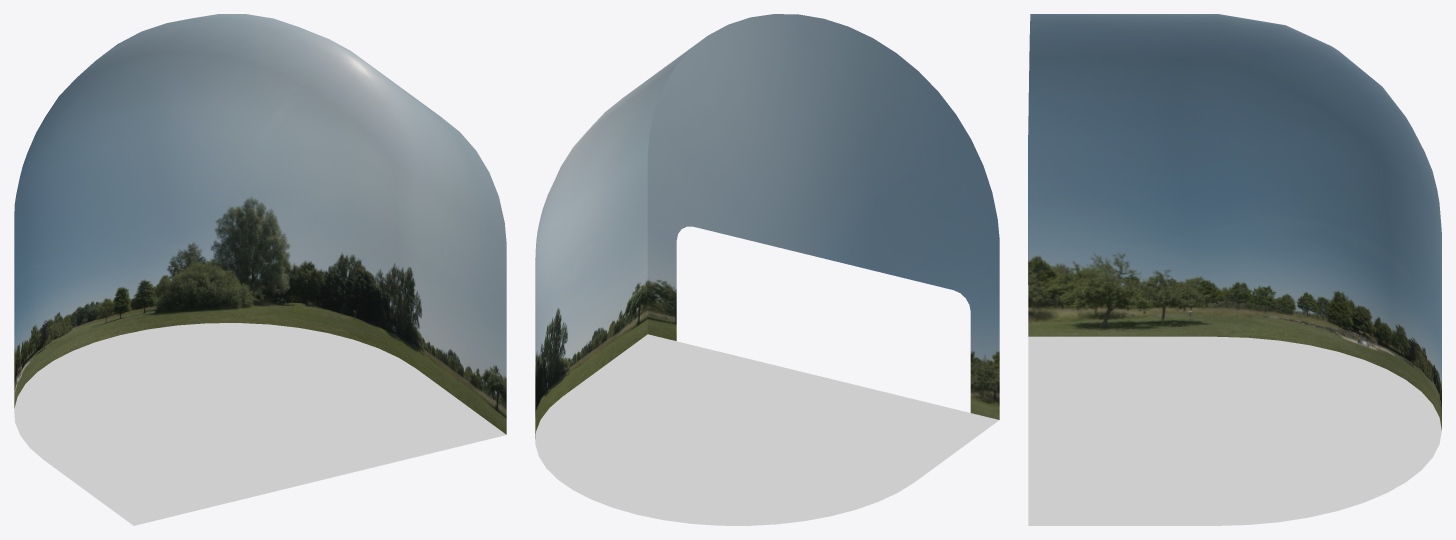
File: PZ_room1.glb
3 renders of one model, left to right at view 1: azimuth 30°, elevation 25°; view 2: azimuth 150°, elevation 25°; view 3: azimuth 270°, elevation 25°, orthographic. The views are drawn at different scales.
Parts seen in each view (by area): view 1: Plane; view 2: Plane; view 3: Plane.
Boxes of the visible parts, x1,y1,x2,y2 form: Plane: (14,14,506,525); Plane: (535,14,999,525); Plane: (1028,14,1441,525).
Size of the model in its own units: 20.48 by 20 by 18.93.
2 materials, 1 textured.
